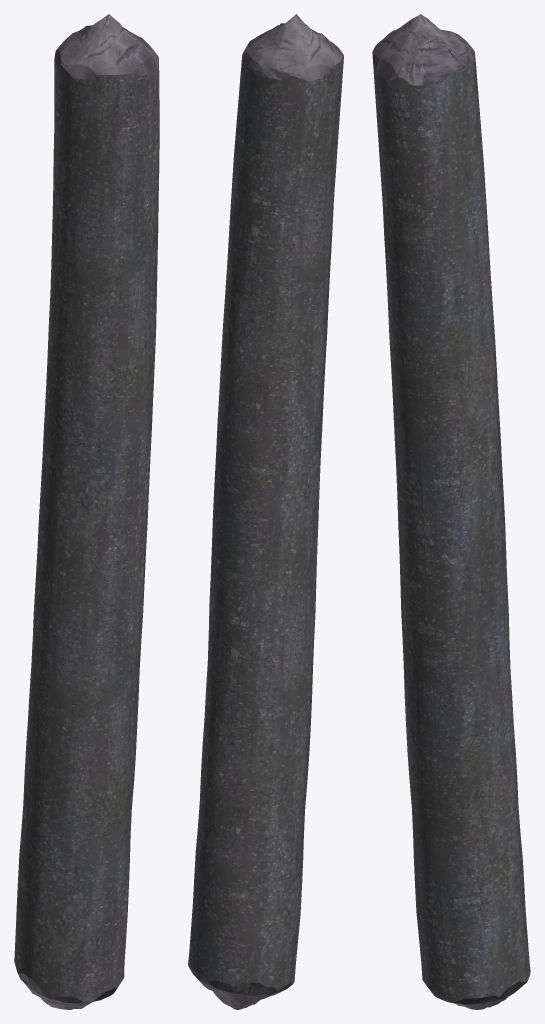
The picture shows the model from 3 angles, left to right: view 1: azimuth 90°, elevation 25°; view 2: azimuth 150°, elevation 25°; view 3: azimuth 330°, elevation 25°; orthographic projection. The views are drawn at different scales.
Parts seen in each view (by area): view 1: SM_FH_Ash_Tree_01_half_mid_LOD0; view 2: SM_FH_Ash_Tree_01_half_mid_LOD0; view 3: SM_FH_Ash_Tree_01_half_mid_LOD0.
Part boxes in pixels (x1=…): SM_FH_Ash_Tree_01_half_mid_LOD0: x1=14, y1=14, x2=159, y2=1009; SM_FH_Ash_Tree_01_half_mid_LOD0: x1=188, y1=14, x2=343, y2=1009; SM_FH_Ash_Tree_01_half_mid_LOD0: x1=372, y1=14, x2=530, y2=1009.
Size of the model in its own units: 0.6203 by 4.74 by 0.616.
Materials: 1 (1 with a texture image).
